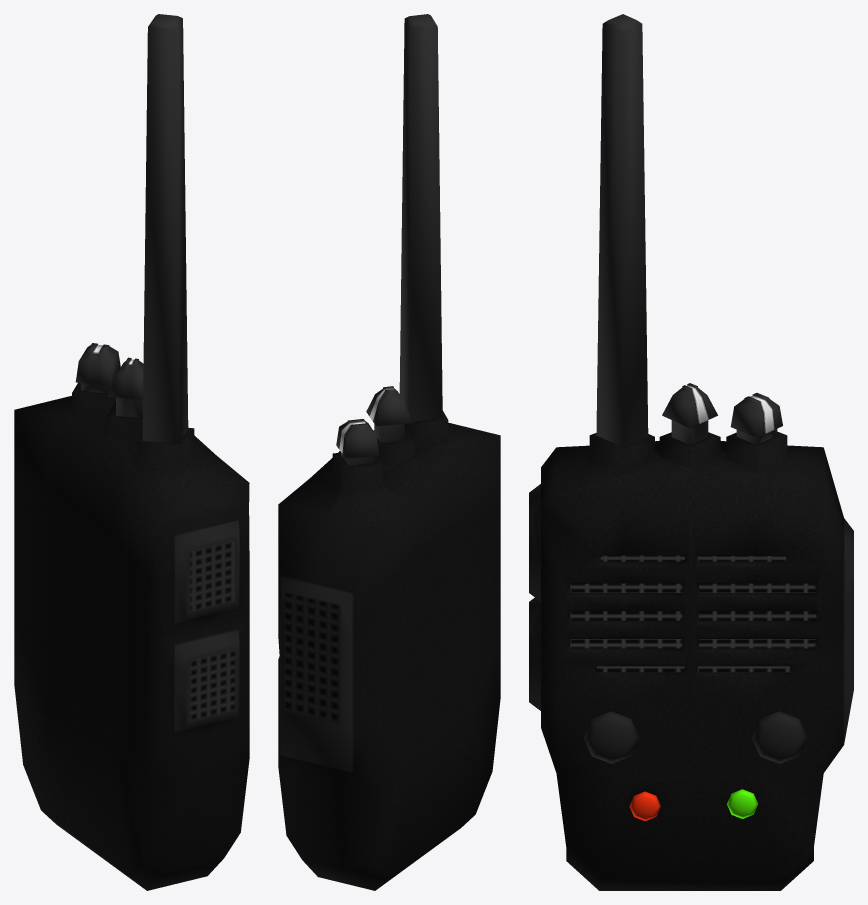
The model's file is Radio.fbx.
3 views of the same model, side by side, from view 1: azimuth 30°, elevation 25°; view 2: azimuth 150°, elevation 25°; view 3: azimuth 270°, elevation 25° (orthographic). The views are drawn at different scales.
Parts seen in each view (by area): view 1: Radio, Radio_Antenna, Radio_KnobFat, Radio_KnobLong; view 2: Radio, Radio_Antenna, Radio_KnobLong, Radio_KnobFat; view 3: Radio, Radio_Antenna, Radio_Speaker, Radio_KnobLong, Radio_Button1, Radio_Button2, Radio_KnobFat, Radio_Light2, Radio_Light1.
Boxes of the visible parts, x1=… form: Radio: x1=14, y1=383, x2=249, y2=890; Radio_Antenna: x1=142, y1=14, x2=188, y2=443; Radio_KnobFat: x1=75, y1=343, x2=120, y2=393; Radio_KnobLong: x1=107, y1=357, x2=143, y2=417; Radio: x1=278, y1=410, x2=500, y2=890; Radio_Antenna: x1=399, y1=14, x2=442, y2=421; Radio_KnobLong: x1=366, y1=386, x2=412, y2=443; Radio_KnobFat: x1=336, y1=419, x2=379, y2=465; Radio: x1=529, y1=431, x2=853, y2=890; Radio_Antenna: x1=596, y1=14, x2=648, y2=447; Radio_Speaker: x1=570, y1=555, x2=816, y2=672; Radio_KnobLong: x1=662, y1=383, x2=717, y2=445; Radio_Button1: x1=583, y1=711, x2=639, y2=763; Radio_Button2: x1=751, y1=711, x2=807, y2=763; Radio_KnobFat: x1=730, y1=393, x2=782, y2=444; Radio_Light2: x1=629, y1=791, x2=660, y2=821; Radio_Light1: x1=727, y1=789, x2=757, y2=818.
Size of the model in its own units: 65.15 by 478 by 164.
